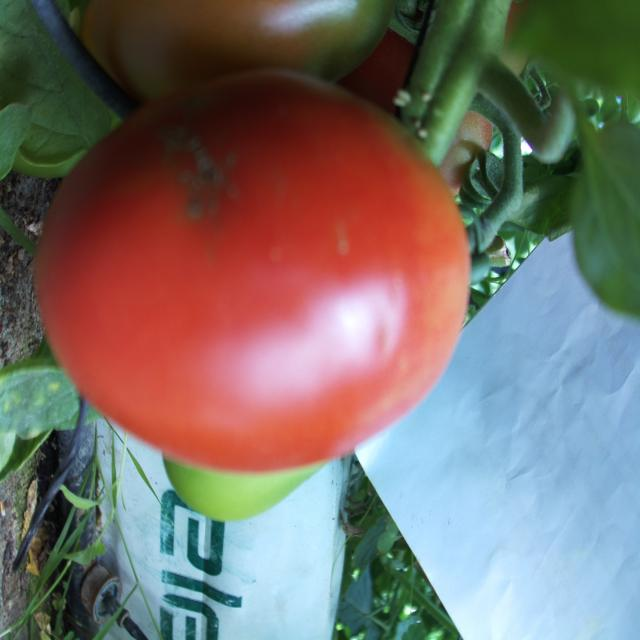kirmizi: (17, 55, 486, 480)
